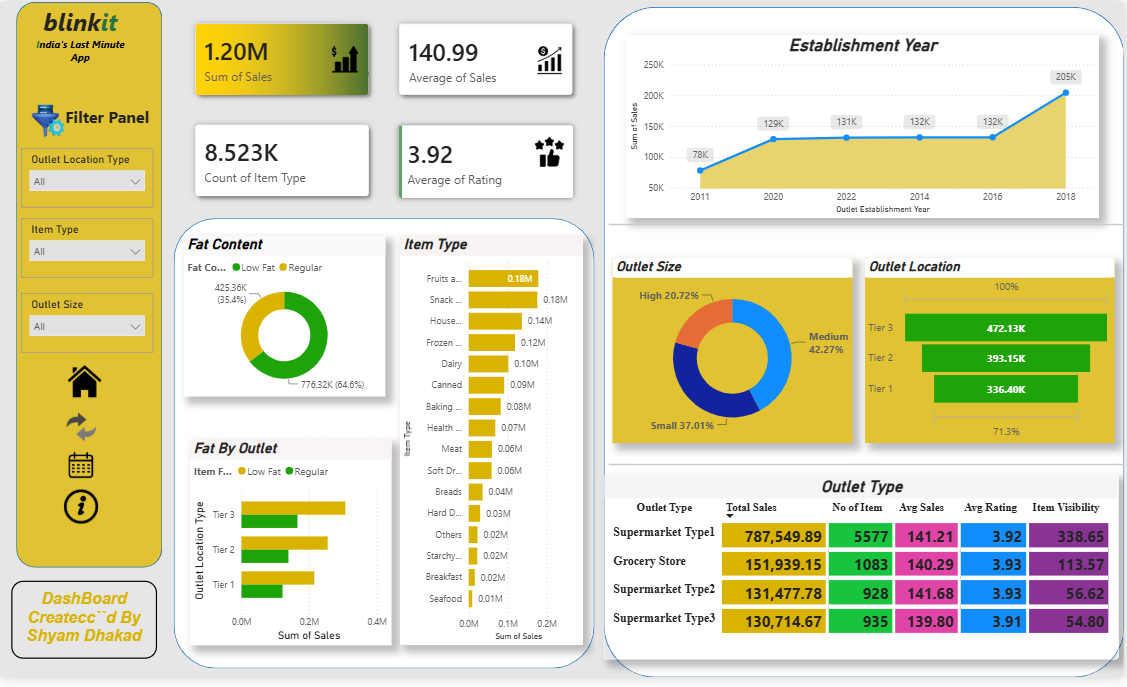

Layout of this report page (visuals, bound fields, positions):
{"tool":"powerbi","page":{"name":"Page 1","canvas":[1500,900],"ordinal":0},"visuals":[{"type":"shape","box":[21.1,0,194.5,754],"z":0},{"type":"textbox","box":[37,0,141.3,113.9],"z":1000},{"type":"textbox","box":[28.8,126.2,175.6,53.5],"z":2000},{"type":"image","box":[37,135.8,54.9,43.9],"z":3000},{"type":"slicer","fields":{"Values":["BlinkIT Grocery Data.Outlet Location Type"]},"box":[28.8,194.9,175.6,79.6],"z":4000},{"type":"slicer","fields":{"Values":["BlinkIT Grocery Data.Item Type"]},"box":[28.8,288.2,175.6,79.6],"z":5000},{"type":"slicer","fields":{"Values":["BlinkIT Grocery Data.Outlet Size"]},"box":[28.8,388.3,175.6,79.6],"z":6000},{"type":"image","box":[89.2,481.6,45.3,48],"z":7000},{"type":"image","box":[81,542,53.5,49.4],"z":8000},{"type":"image","box":[81,591.4,53.5,49.4],"z":9000},{"type":"image","box":[71.4,650.4,72.7,45.3],"z":10000},{"type":"cardVisual","fields":{"Data":["Sum(BlinkIT Grocery Data.Sales)"]},"box":[231.9,0,289.5,153.7],"z":11000},{"type":"cardVisual","fields":{"Data":["Avg(BlinkIT Grocery Data.Sales)"]},"box":[503.6,0,289.5,153.7],"z":12000},{"type":"cardVisual","fields":{"Data":["Avg(BlinkIT Grocery Data.Rating)"]},"box":[503.6,135.8,289.5,153.7],"z":13000},{"type":"cardVisual","fields":{"Data":["CountNonNull(BlinkIT Grocery Data.Item Type)"]},"box":[231.9,134.5,289.5,153.7],"z":14000},{"type":"shape","box":[232.2,288,561,600.2],"z":15000},{"type":"shape","box":[805.6,6.4,694.7,894.1],"z":16000},{"type":"areaChart","title":" Establishment Year","fields":{"Category":["BlinkIT Grocery Data.Outlet Establishment Year"],"Y":["Sum(BlinkIT Grocery Data.Sales)"]},"box":[834.6,43.4,630.4,244.4],"z":17000},{"type":"donutChart","title":"Outlet Size","fields":{"Category":["BlinkIT Grocery Data.Outlet Size"],"Y":["Sum(BlinkIT Grocery Data.Sales)"]},"box":[816.9,340.9,320,246],"z":18000},{"type":"funnel","title":"Outlet Location ","fields":{"Category":["BlinkIT Grocery Data.Outlet Location Type"],"Y":["Sum(BlinkIT Grocery Data.Sales)"]},"box":[1153,340.9,332.9,246],"z":19000},{"type":"pivotTable","title":"Outlet Type","fields":{"Rows":["BlinkIT Grocery Data.Outlet Type"],"Values":["Sum(BlinkIT Grocery Data.Sales)","CountNonNull(BlinkIT Grocery Data.Item Type)","Avg(BlinkIT Grocery Data.Sales)","Avg(BlinkIT Grocery Data.Rating)","Sum(BlinkIT Grocery Data.Item Visibility)"]},"box":[805.6,630.4,686.6,246],"z":20000},{"type":"shape","box":[812.1,207.4,688.3,180.1],"z":21000},{"type":"shape","box":[812.1,525.8,688.3,180.1],"z":22000},{"type":"donutChart","title":"Fat Content","fields":{"Category":["BlinkIT Grocery Data.Item Fat Content"],"Y":["Sum(BlinkIT Grocery Data.Sales)"]},"box":[244.3,312.2,268.4,214.1],"z":23000},{"type":"clusteredBarChart","title":"Fat By Outlet","fields":{"Category":["BlinkIT Grocery Data.Outlet Location Type"],"Y":["Sum(BlinkIT Grocery Data.Sales)"],"Series":["BlinkIT Grocery Data.Item Fat Content"]},"box":[253.4,583.6,268.4,274.5],"z":24000},{"type":"barChart","title":" Item Type","fields":{"Category":["BlinkIT Grocery Data.Item Type"],"Y":["Sum(BlinkIT Grocery Data.Sales)"]},"box":[533.8,312.2,244.3,545.9],"z":25000},{"type":"textbox","box":[15.1,772.1,194.5,104.1],"z":26000}]}

Visuals, with their boxes in screenshot pixels (x1, y1, x2, y2), scaled from the page's 1500x900 canvas onto the 1127x687 screenshot:
shape: 16,0,162,576
textbox: 28,0,134,87
textbox: 22,96,154,137
image: 28,104,69,137
slicer - BlinkIT Grocery Data.Outlet Location Type: 22,149,154,210
slicer - BlinkIT Grocery Data.Item Type: 22,220,154,281
slicer - BlinkIT Grocery Data.Outlet Size: 22,296,154,357
image: 67,368,101,404
image: 61,414,101,451
image: 61,451,101,489
image: 54,496,108,531
cardVisual - Sum(BlinkIT Grocery Data.Sales): 174,0,392,117
cardVisual - Avg(BlinkIT Grocery Data.Sales): 378,0,596,117
cardVisual - Avg(BlinkIT Grocery Data.Rating): 378,104,596,221
cardVisual - CountNonNull(BlinkIT Grocery Data.Item Type): 174,103,392,220
shape: 174,220,596,678
shape: 605,5,1126,686
" Establishment Year" areaChart: 627,33,1101,220
"Outlet Size" donutChart: 614,260,854,448
"Outlet Location " funnel: 866,260,1116,448
"Outlet Type" pivotTable: 605,481,1121,669
shape: 610,158,1126,296
shape: 610,401,1126,539
"Fat Content" donutChart: 184,238,385,402
"Fat By Outlet" clusteredBarChart: 190,445,392,655
" Item Type" barChart: 401,238,585,655
textbox: 11,589,157,669
